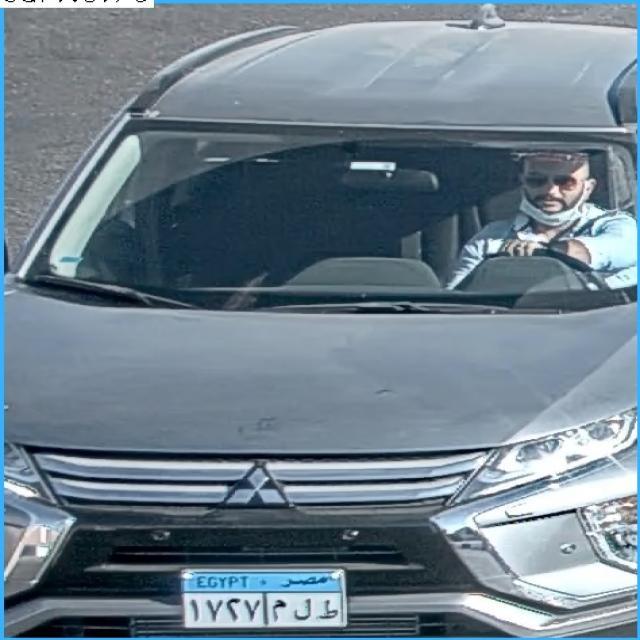windshield: (50, 120, 640, 312)
